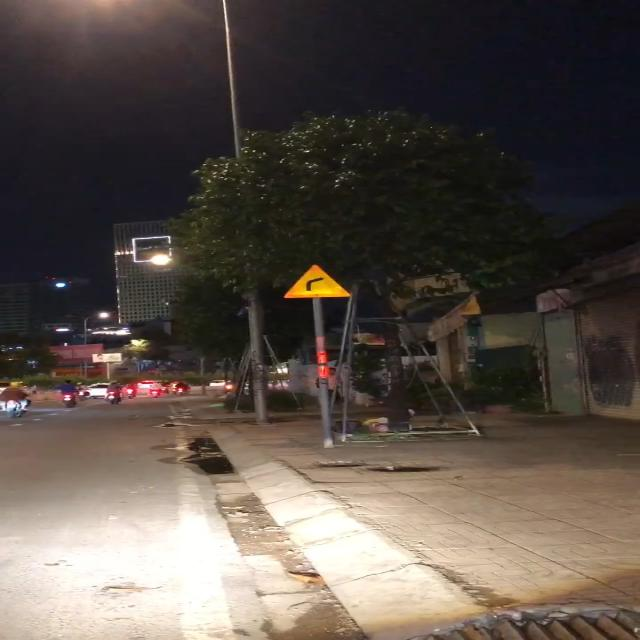Bien bao cho ngoat nguy hiem: (282, 259, 358, 305)
